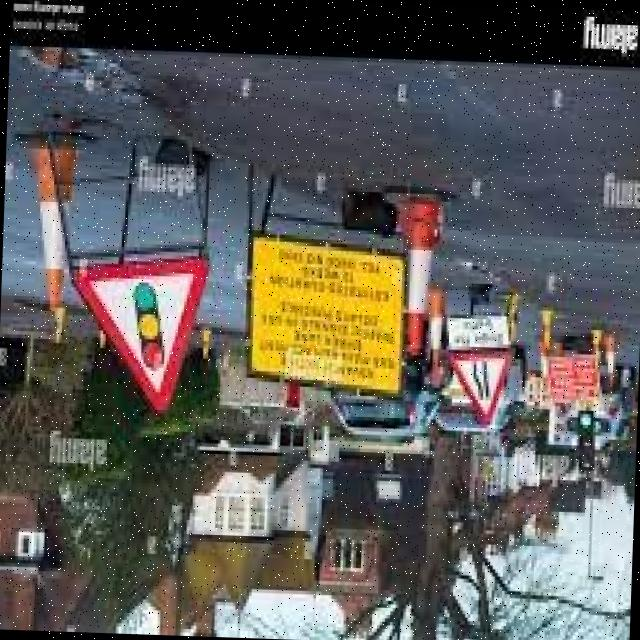light_traffic: (61, 244, 210, 416)
